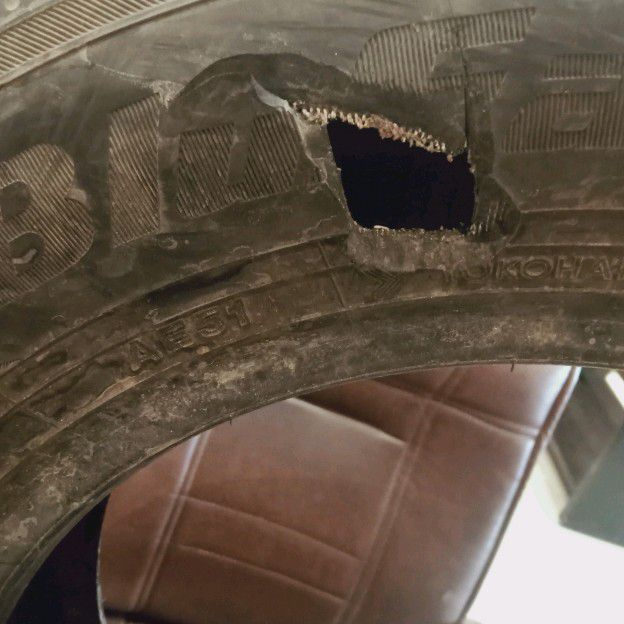bead_damage: (255, 81, 536, 283)
